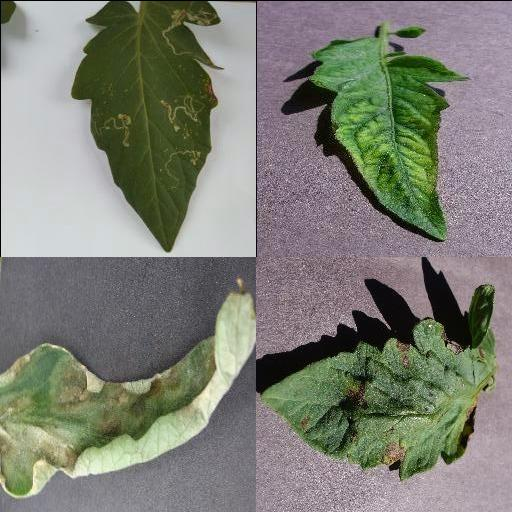Early Blight: (261, 282, 497, 476)
Late Blight: (0, 276, 256, 496)
Leaf Miner: (69, 0, 221, 252)
Mosaic Virus: (308, 37, 468, 241)
